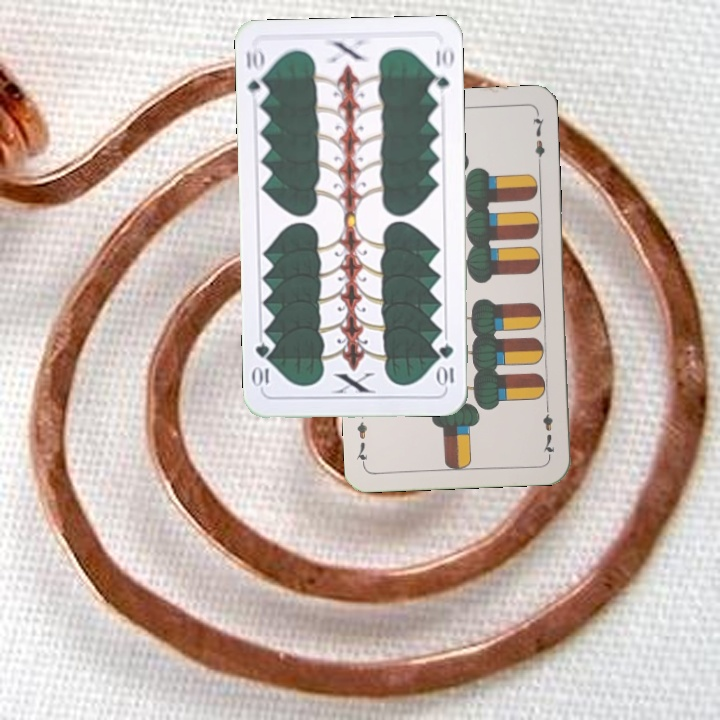E7: (539, 400, 557, 459)
G10: (242, 45, 270, 104), (435, 339, 456, 390)
